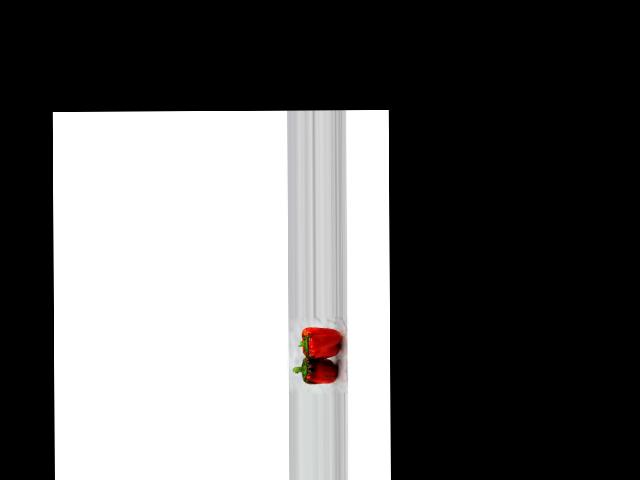bell_pepper: (296, 322, 342, 358)
